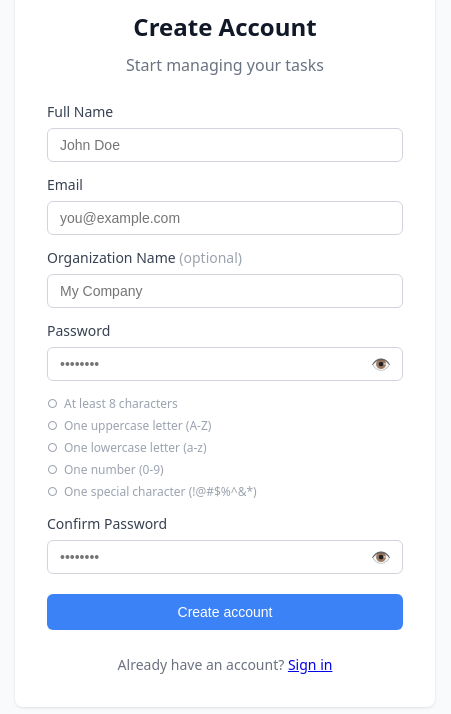
it: Register Page › TC-REG-UI-007: Shows error on failed registration
Type "Test User" into the field labelled "Full Name" at (225, 145), box [47,128,403,162]
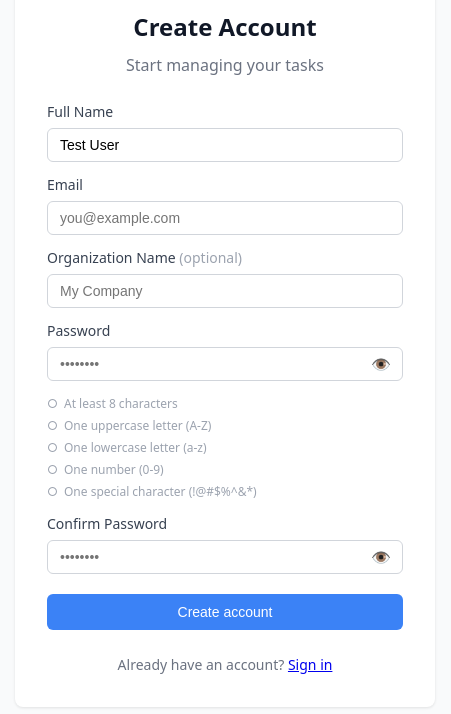
Type "test@example.com" into the field labelled "Email" at (225, 218), box [47,201,403,235]
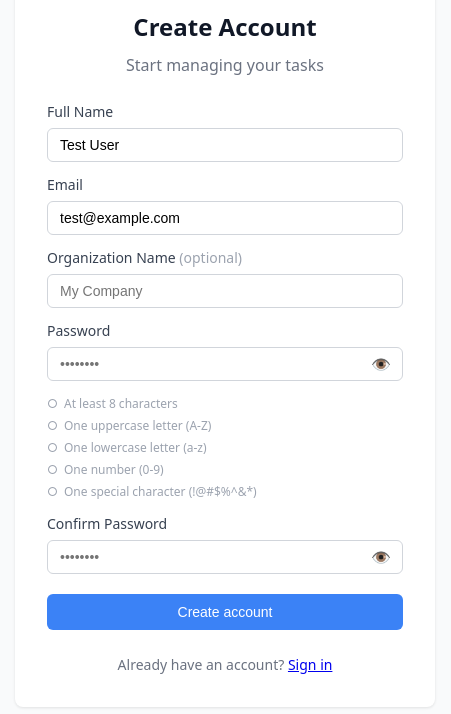
Type "Password123!" into the password field labelled "Password" at (225, 364), box [47,347,403,381]
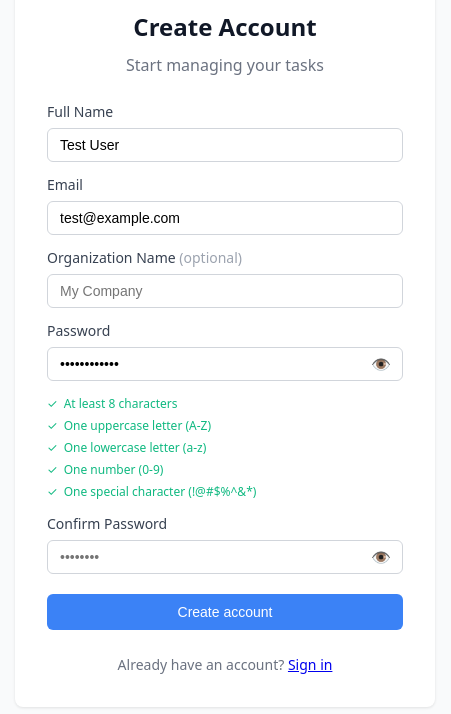
Type "Password123!" into the password field labelled "Confirm Password" at (225, 557), box [47,540,403,574]
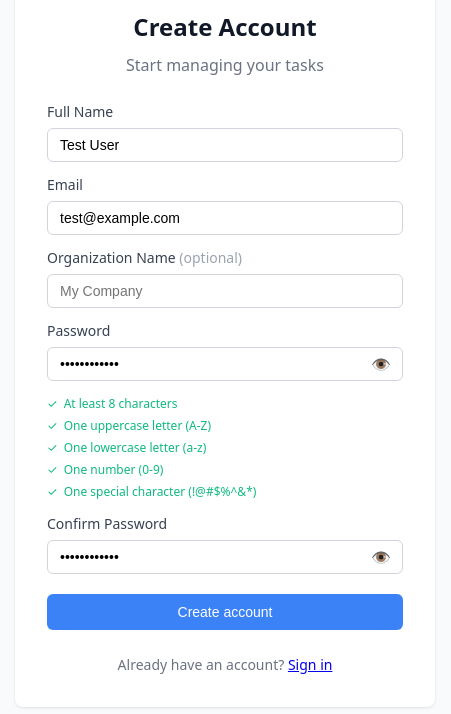
Click the button "Create account" at (225, 612), box [47,594,403,630]
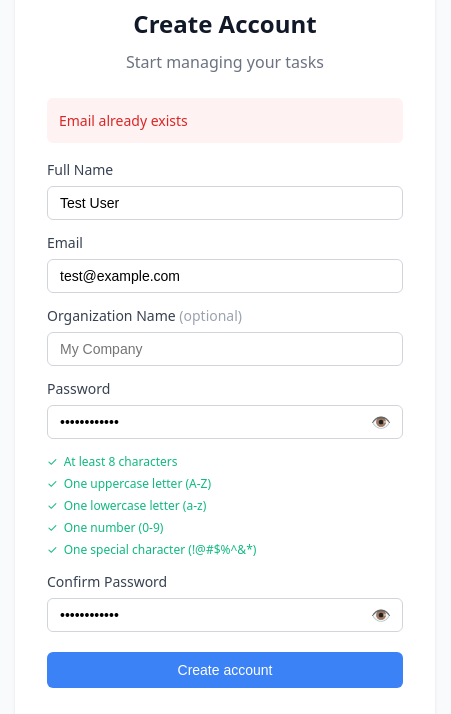
Result: the text "Email already exists" is shown at [47,98,403,143]
